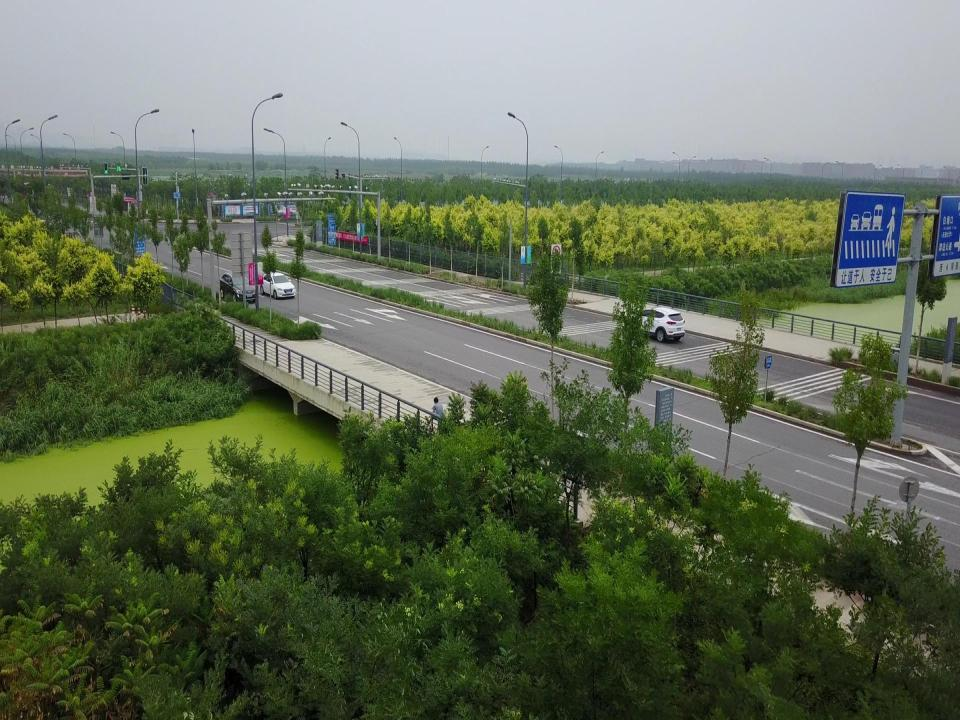bus: (116, 197, 146, 224)
car: (631, 306, 685, 341), (219, 269, 257, 302), (260, 271, 295, 299)
